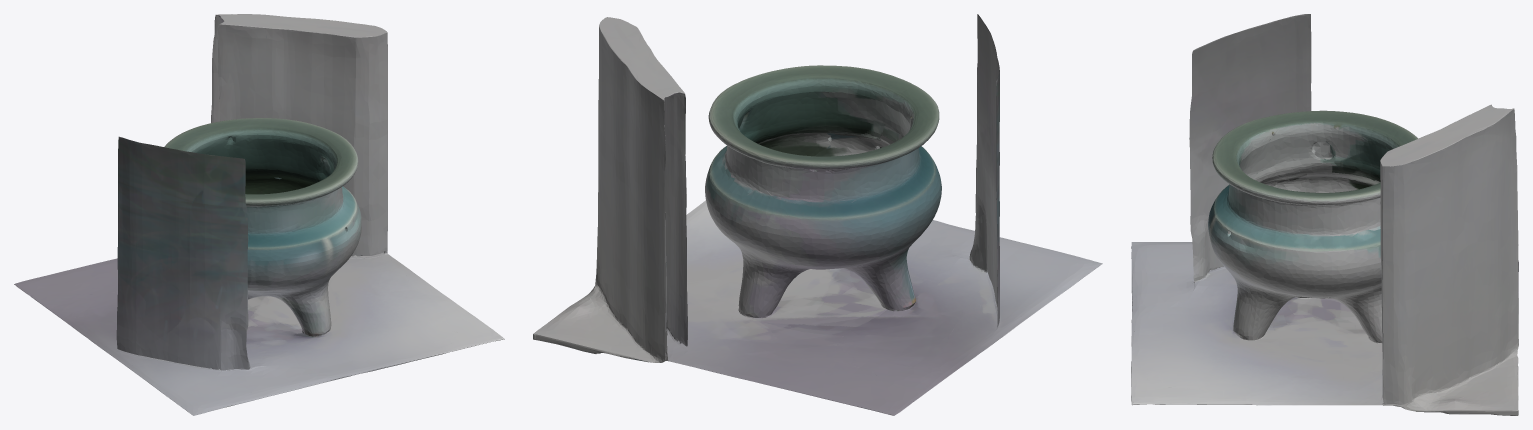
The model's file is 龙泉窑青釉三足炉.glb.
The picture shows the model from 3 angles, left to right: view 1: azimuth 30°, elevation 25°; view 2: azimuth 150°, elevation 25°; view 3: azimuth 270°, elevation 25°; orthographic projection. The views are drawn at different scales.
Visible parts, largest first — view 1: world; view 2: world; view 3: world.
Boxes of the visible parts, <box> form: world: <box>14,14,504,415</box>; world: <box>533,14,1102,415</box>; world: <box>1131,14,1518,415</box>.
Bounding box in the file's own units: 1 × 0.713 × 1.
Materials: 1 (1 with a texture image).
